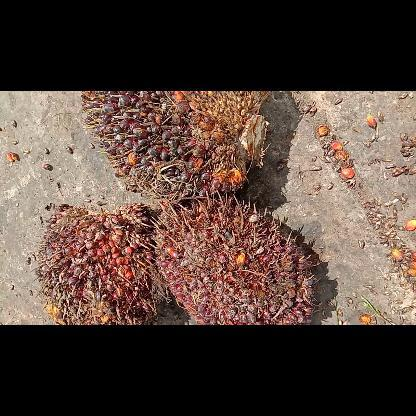Kurang masak: (32, 200, 158, 324)
TBS masak: (155, 198, 319, 324), (77, 91, 269, 197)
